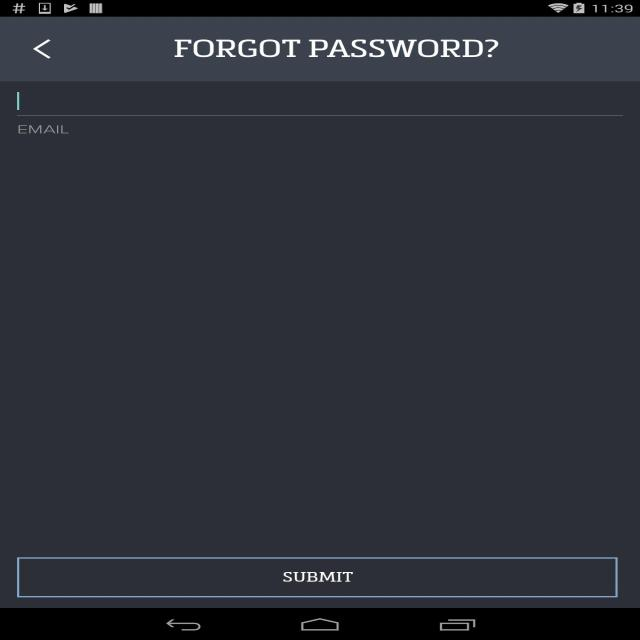button: (19, 556, 616, 598), (24, 27, 64, 72)
field: (11, 88, 627, 116)
heading: (172, 37, 500, 62)
label: (17, 120, 80, 140)
